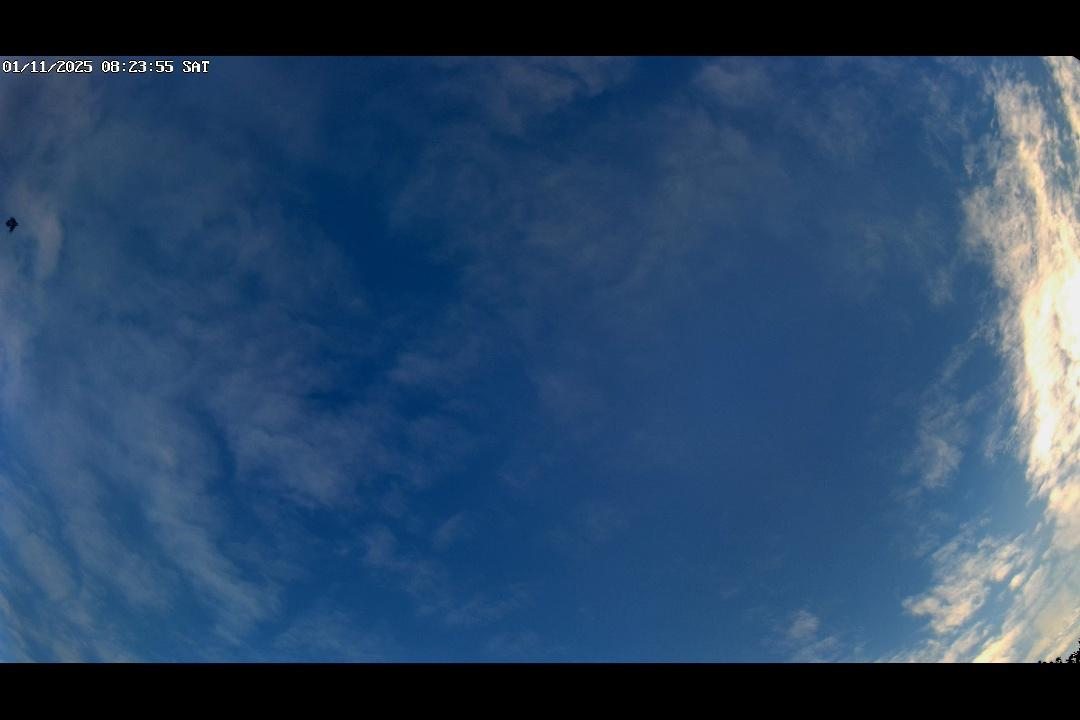WildLife: (0, 210, 30, 239)
